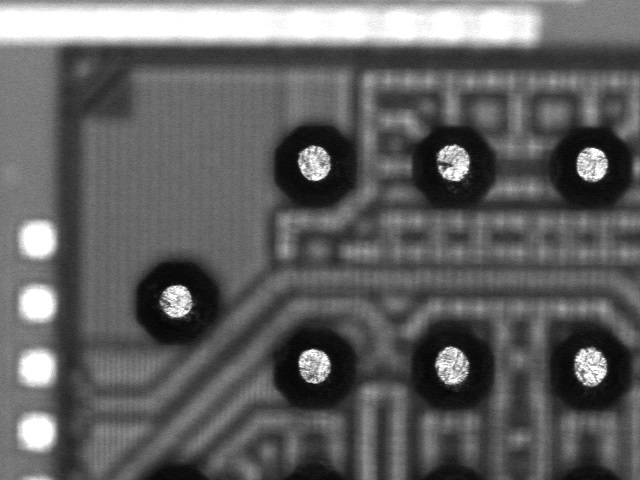over: (261, 318, 363, 415), (400, 316, 502, 413), (128, 253, 229, 350), (266, 117, 367, 214), (403, 117, 504, 214), (539, 117, 640, 214), (539, 318, 640, 415)
